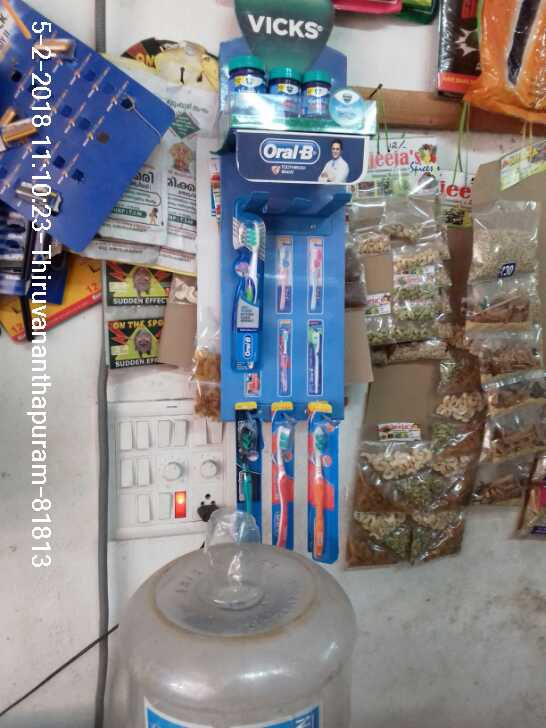pharmacy: (230, 209, 265, 373), (306, 399, 339, 562), (269, 403, 295, 547), (238, 402, 261, 532), (301, 72, 333, 118)
